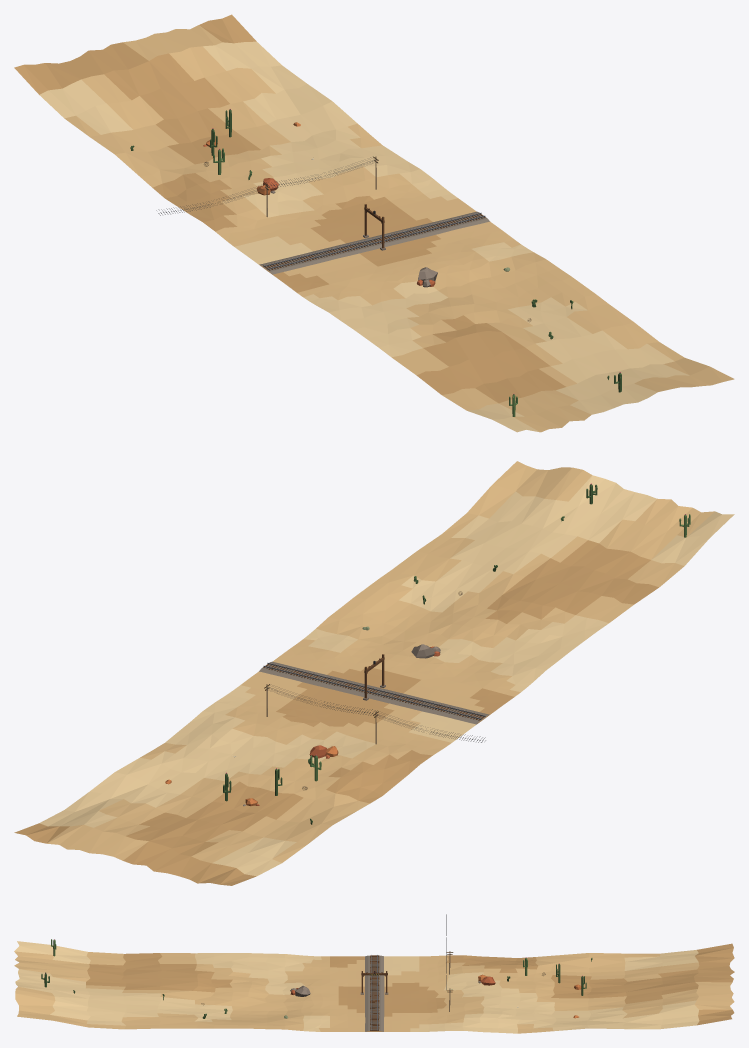
The model's file is SM_FG_Chunk_Landmark_Gantry_A.fbx.
The picture shows the model from 3 angles, top to bottom: view 1: azimuth 30°, elevation 25°; view 2: azimuth 150°, elevation 25°; view 3: azimuth 270°, elevation 25°; orthographic projection. The views are drawn at different scales.
Visible parts, largest first — view 1: FG_Chunk_Landmark_Gantry_A_Track; view 2: FG_Chunk_Landmark_Gantry_A_Track; view 3: FG_Chunk_Landmark_Gantry_A_Track.
Boxes of the visible parts, <box> form: FG_Chunk_Landmark_Gantry_A_Track: <box>14,14,734,432</box>; FG_Chunk_Landmark_Gantry_A_Track: <box>14,461,734,885</box>; FG_Chunk_Landmark_Gantry_A_Track: <box>14,914,734,1033</box>.
Size of the model in its own units: 6250 by 875 by 20150.
